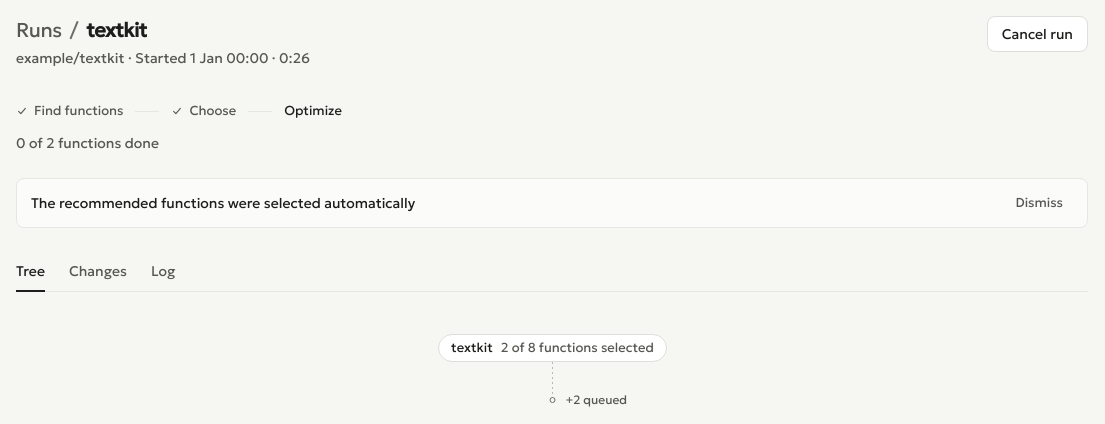
Test case: RunPage, choosing › tells the user when the server picked for them
Expected: the text "The recommended functions were selected automatically" is shown, top-left (31, 192), bottom-right (415, 214)
Click the button "Dismiss".
click(1039, 203)  # box top-left (1005, 189), bottom-right (1073, 217)
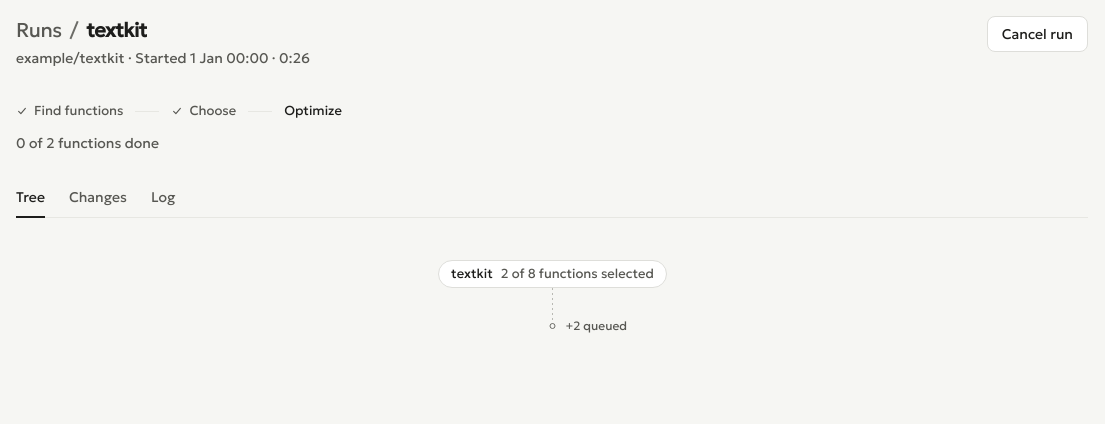
Now the text "The recommended functions were selected automatically" is gone
